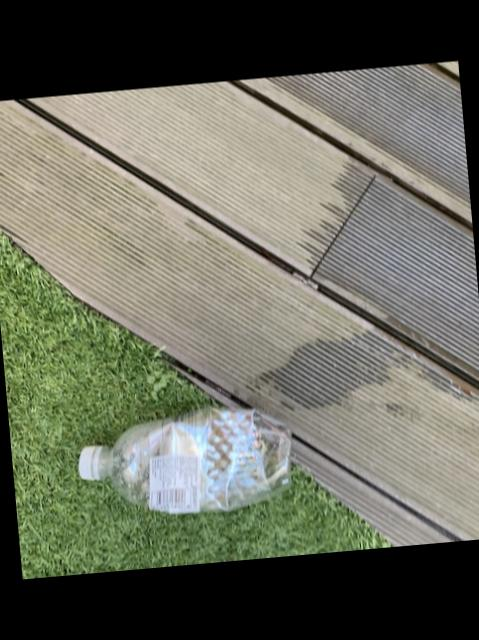plastic: (80, 409, 291, 515)
